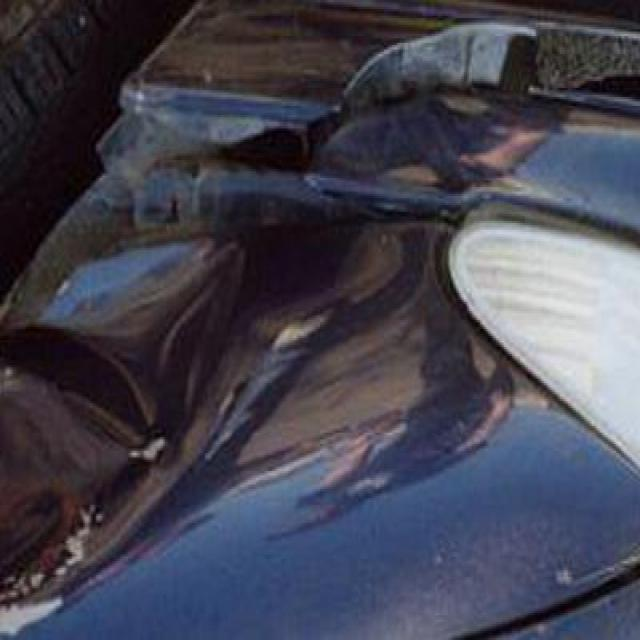dent: (0, 26, 605, 600)
